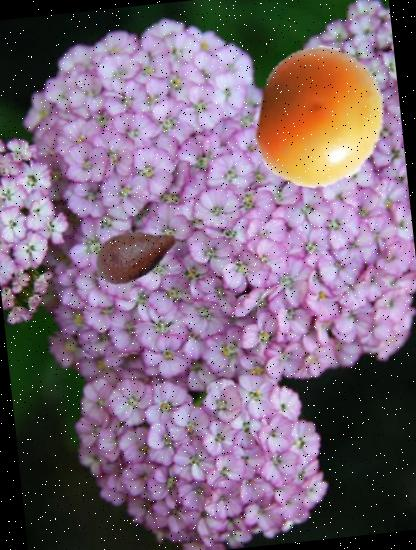Cherry: (242, 39, 399, 196)
Salak: (81, 204, 184, 306)
